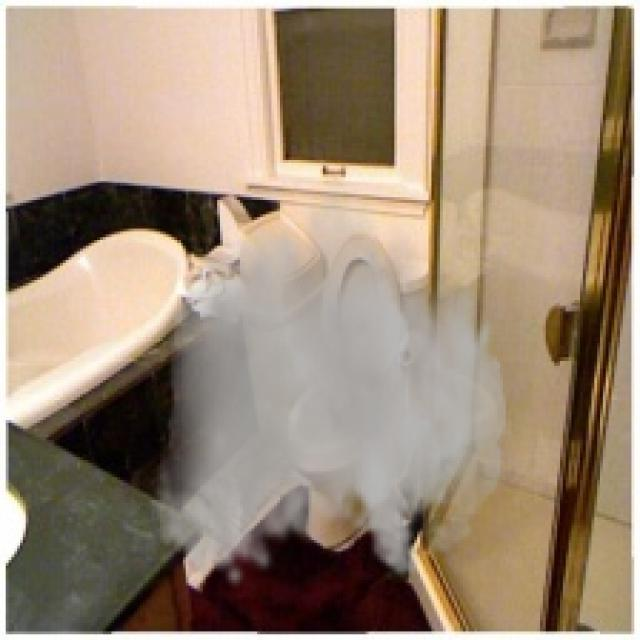Smoke: (154, 172, 506, 588)
